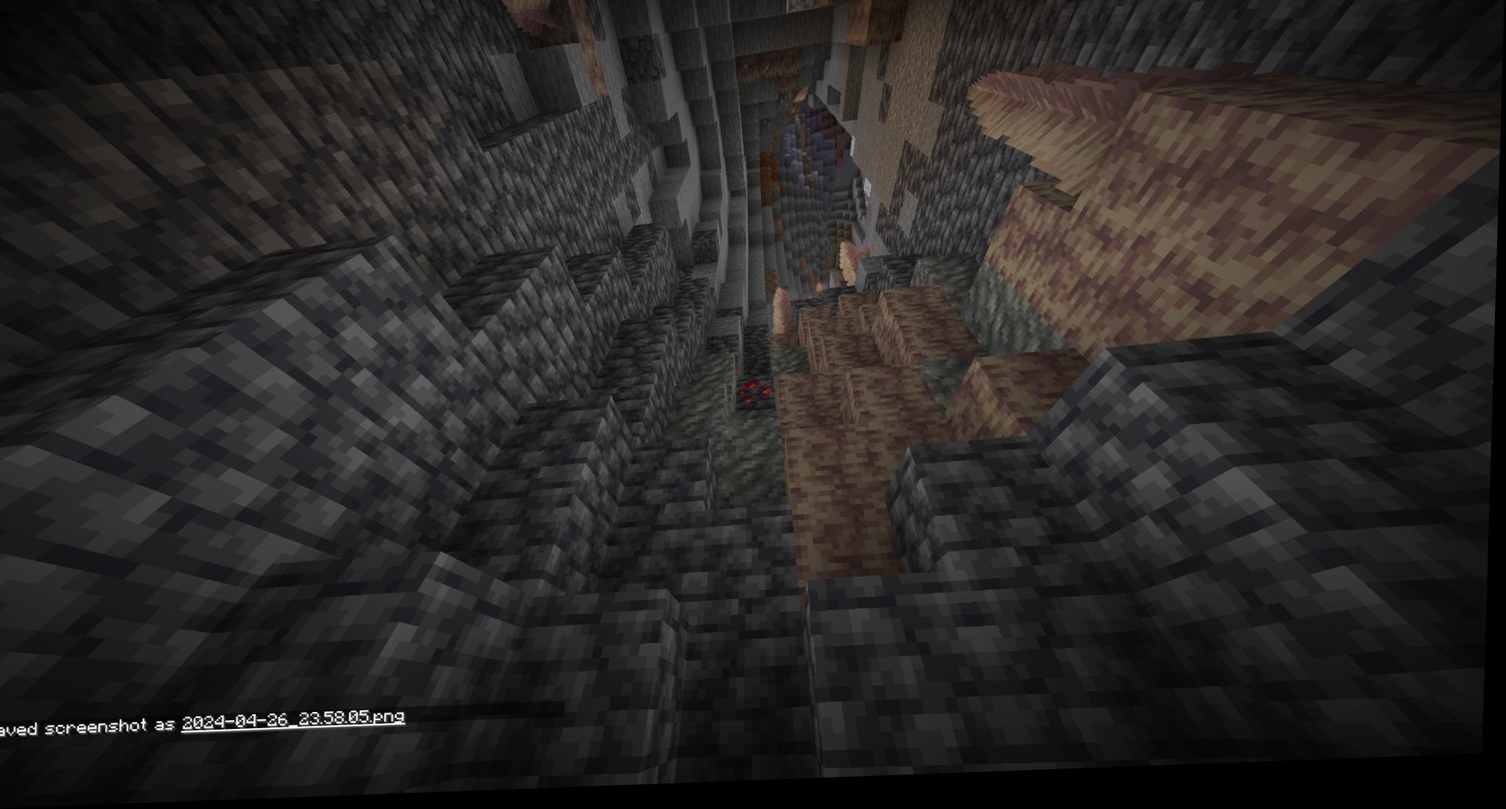redstone ore: (740, 375, 779, 411)
